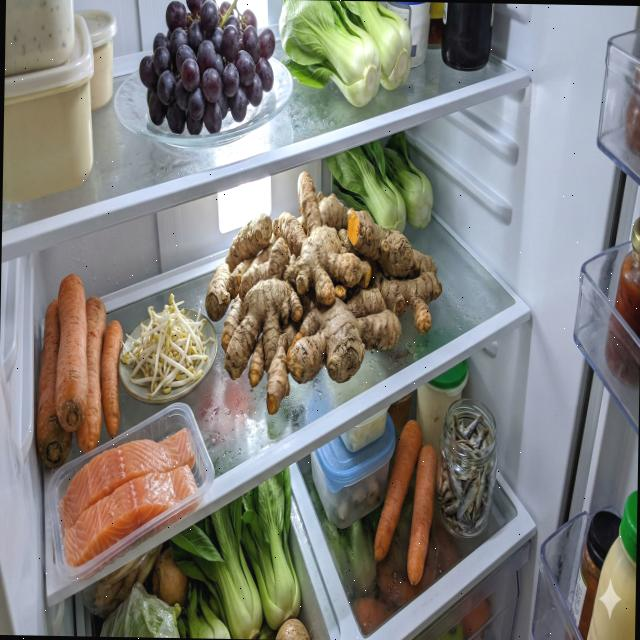anchovies: (437, 411, 496, 536)
bean_sprouts: (120, 292, 216, 401)
carrot: (34, 272, 124, 471), (374, 418, 438, 586)
fish: (58, 424, 200, 584)
grape: (137, 0, 276, 137)
pakchoy: (167, 463, 304, 639), (276, 0, 412, 107), (324, 128, 434, 234)
turmeric: (203, 168, 444, 418)
